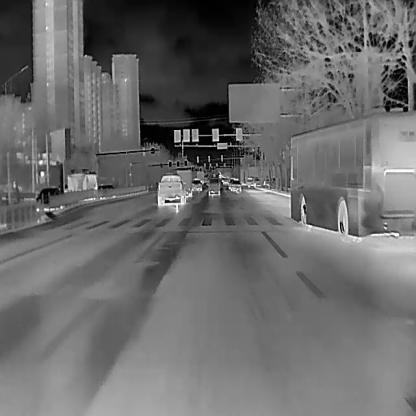car: (289, 111, 414, 243), (156, 173, 186, 206), (66, 167, 96, 190), (35, 187, 63, 210), (176, 169, 192, 197), (207, 176, 220, 196), (230, 180, 241, 192)
